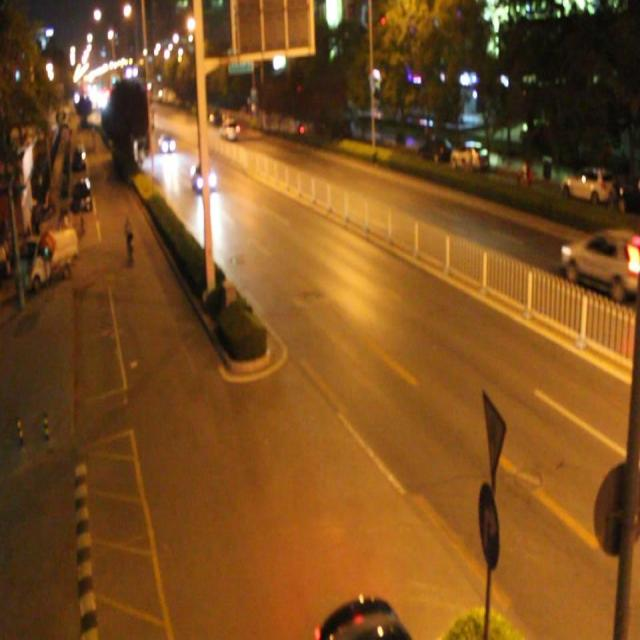car: (560, 223, 640, 297), (320, 595, 407, 640), (189, 163, 218, 194), (219, 118, 239, 143), (158, 130, 176, 156)
